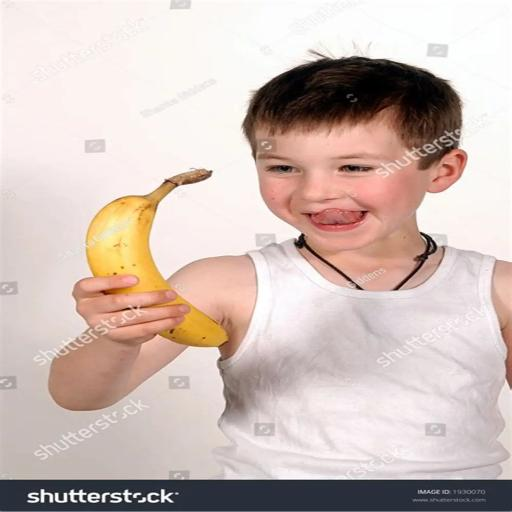banana: (87, 169, 211, 293)
